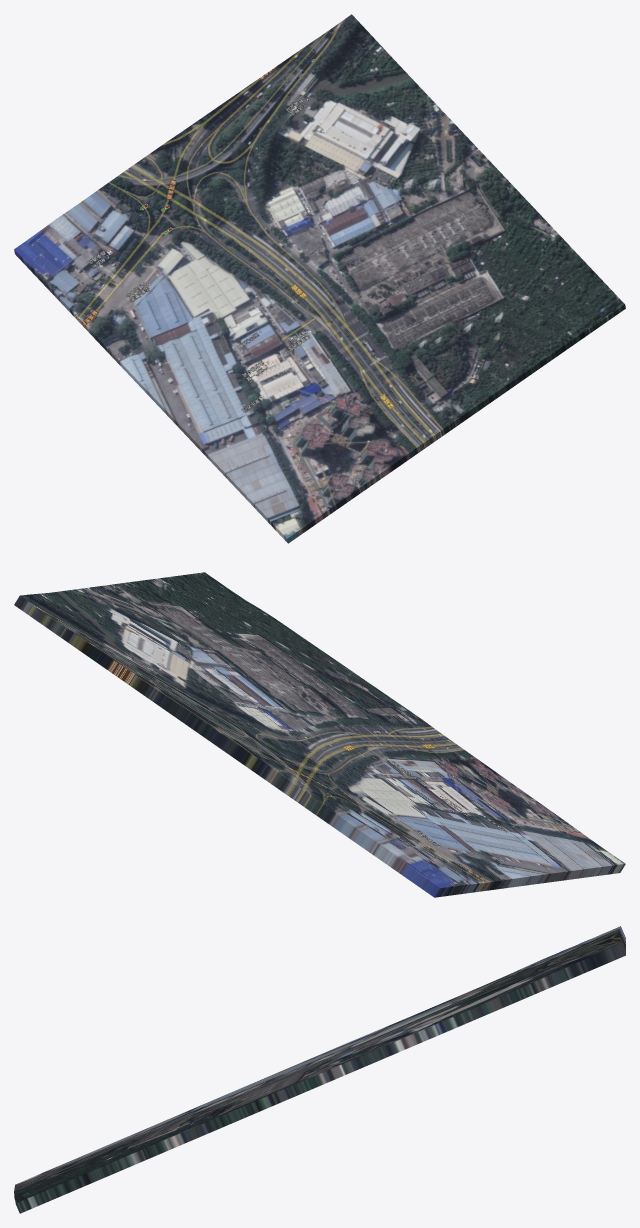
3 renders of one model, top to bottom at view 1: azimuth 30°, elevation 25°; view 2: azimuth 150°, elevation 25°; view 3: azimuth 270°, elevation 25°, orthographic. The views are drawn at different scales.
Parts seen in each view (by area): view 1: 0_16_31; view 2: 0_16_31; view 3: 0_16_31.
Part boxes in pixels (x1=…): 0_16_31: x1=14, y1=14, x2=625, y2=543; 0_16_31: x1=14, y1=572, x2=625, y2=897; 0_16_31: x1=14, y1=926, x2=625, y2=1213.
Bounding box in the file's own units: 596 × 438 × 547.
1 material, 1 textured.
